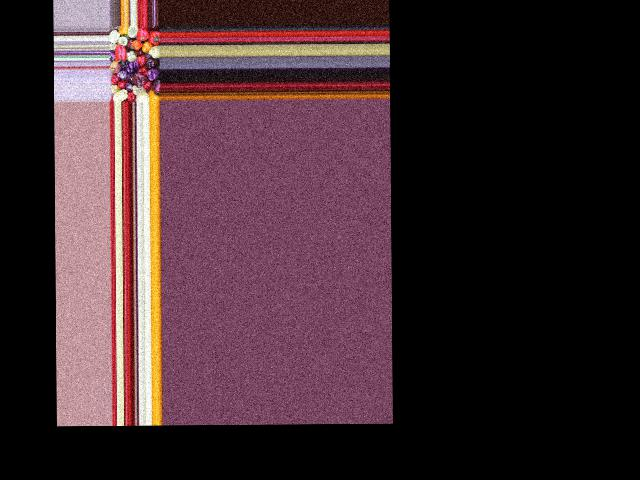bell_pepper: (128, 25, 138, 39)
